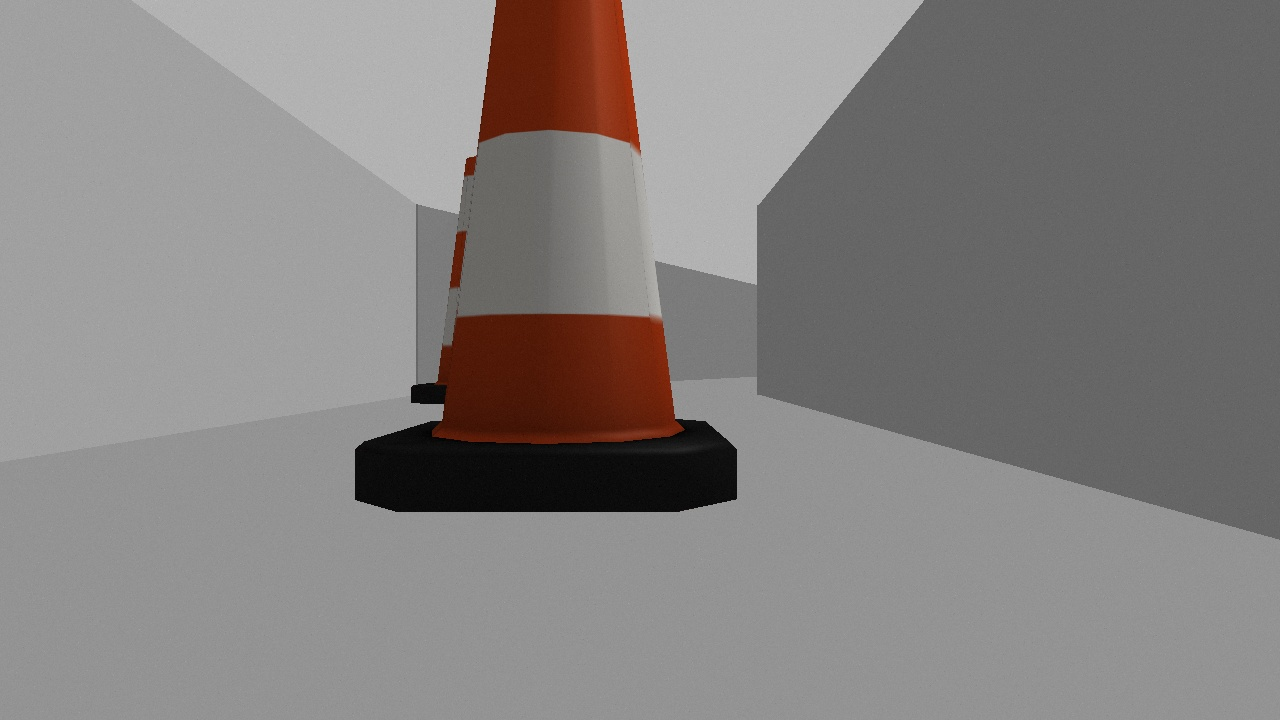barricade: (337, 1, 763, 525), (406, 150, 526, 409)
